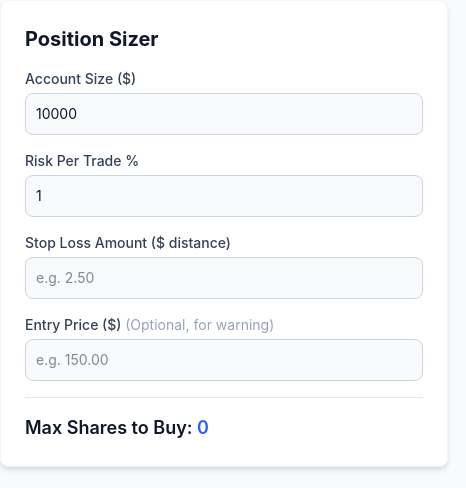
Test: PositionSizer › calculates max shares correctly
Type "2" into the number field labelled "Stop Loss Amount ($ distance)".
click(224, 278); type("2")  # box x1=25 y1=257 x2=423 y2=299
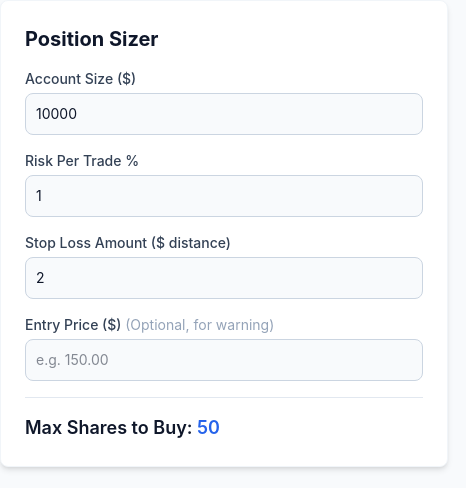
Check: the text "50" is shown, box x1=197 y1=417 x2=220 y2=438
